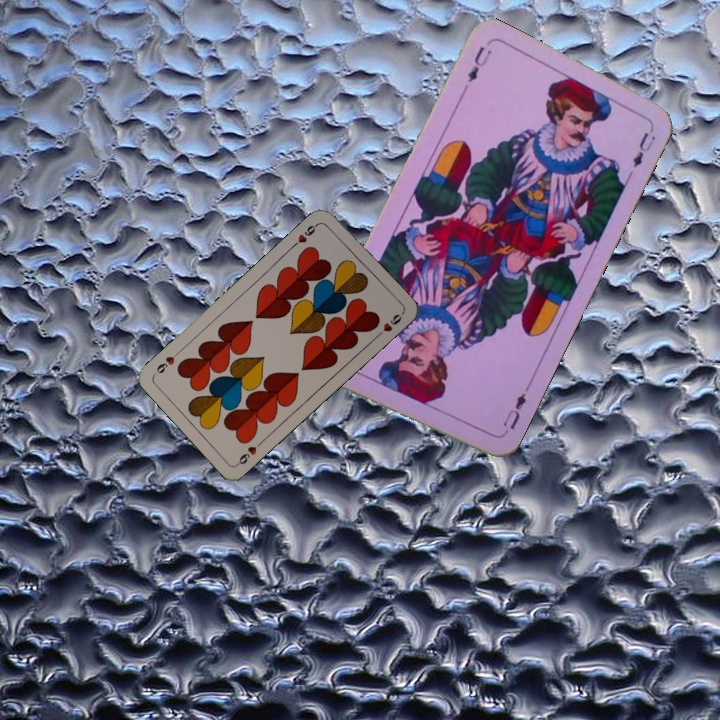EU: (497, 384, 531, 439), (463, 42, 495, 85)
H9: (233, 436, 265, 468), (289, 219, 322, 250)
